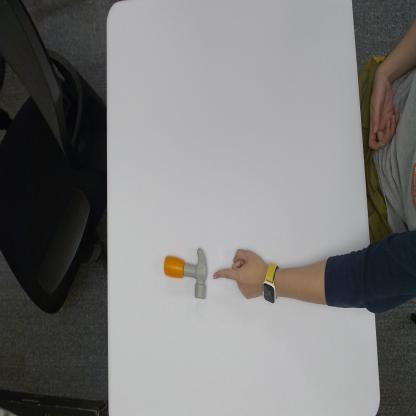Arm: (281, 250, 374, 312)
Hammer: (163, 245, 209, 302)
Hand: (212, 245, 264, 302)
